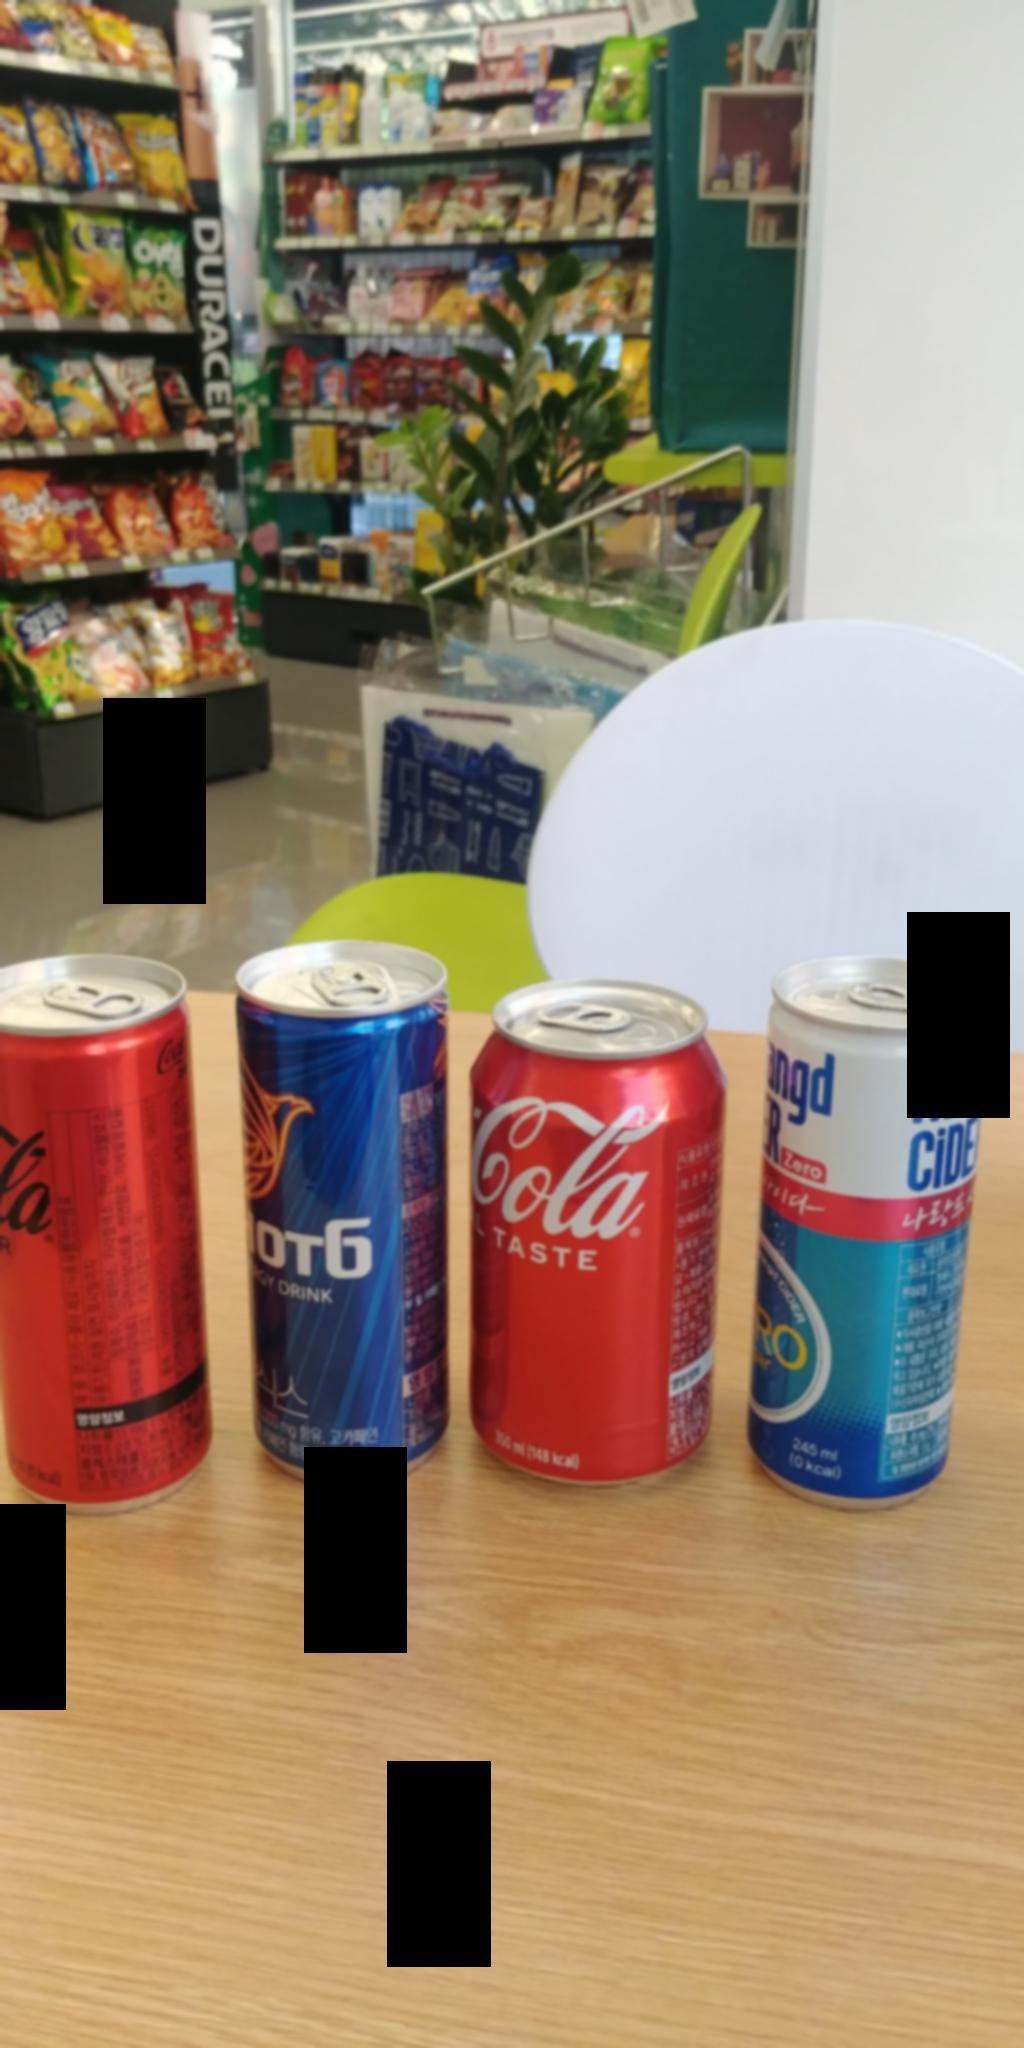cocacola: (460, 999, 730, 1519)
hotsix_org: (234, 921, 427, 1465)
narangdcider: (750, 910, 997, 1498)
